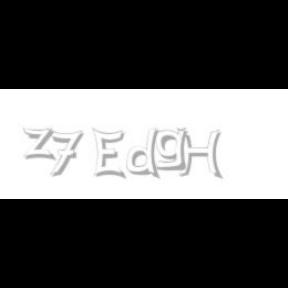7: (46, 128, 84, 178)
E: (92, 128, 126, 180)
H: (176, 128, 222, 180)
d: (126, 128, 163, 180)
g: (154, 128, 192, 171)
z: (22, 128, 58, 160)
